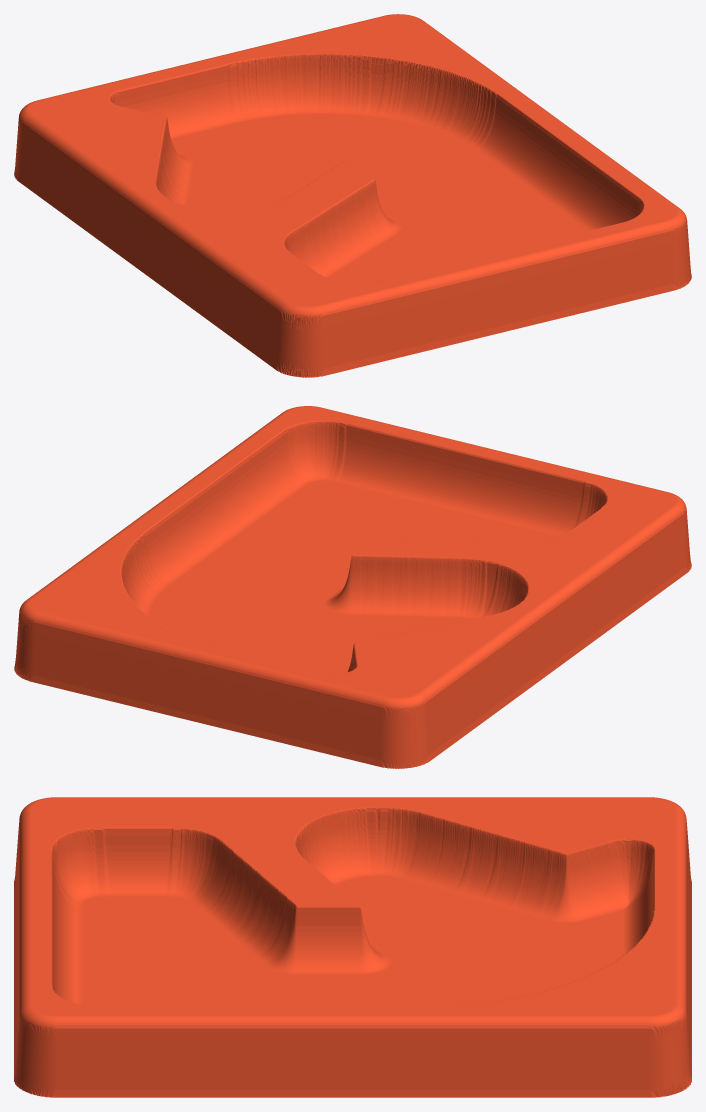
Rendered from mold.glb.
3 renders of one model, top to bottom at view 1: azimuth 30°, elevation 25°; view 2: azimuth 150°, elevation 25°; view 3: azimuth 270°, elevation 25°, orthographic. The views are drawn at different scales.
Parts seen in each view (by area): view 1: geometry_0; view 2: geometry_0; view 3: geometry_0.
Boxes of the visible parts, x1,y1,x2,y2 form: geometry_0: (14, 14, 691, 377); geometry_0: (14, 406, 691, 768); geometry_0: (14, 797, 691, 1097).
Size of the model in its own units: 0.116 by 0.0175 by 0.1435.
